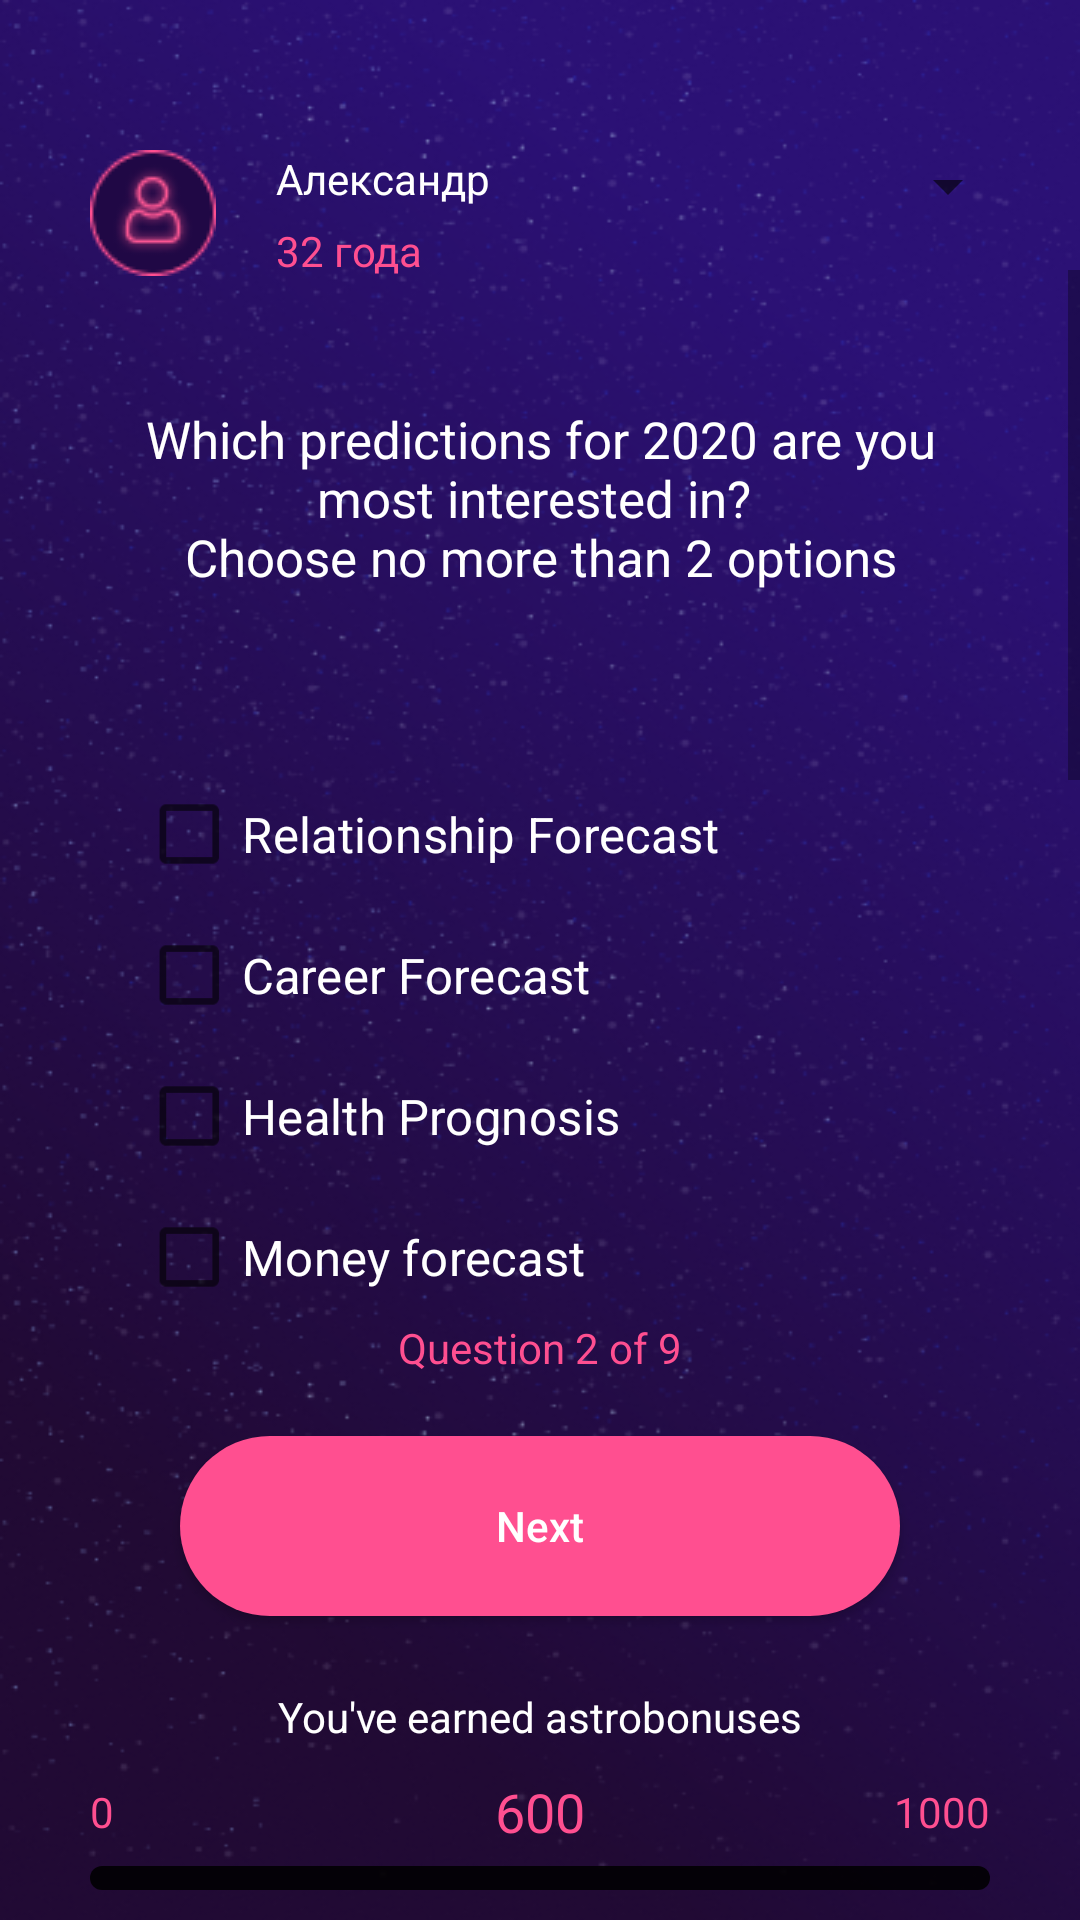

Screen size 1080×1920. Icon name, then its center in pixels as (x=x, y=y):
user: (x=153, y=213)
